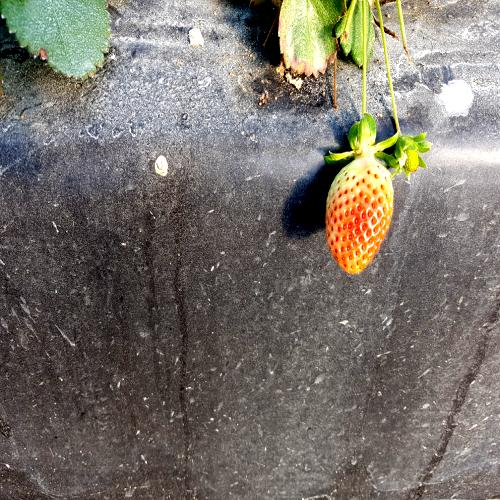partially-ripe: (323, 144, 399, 277)
